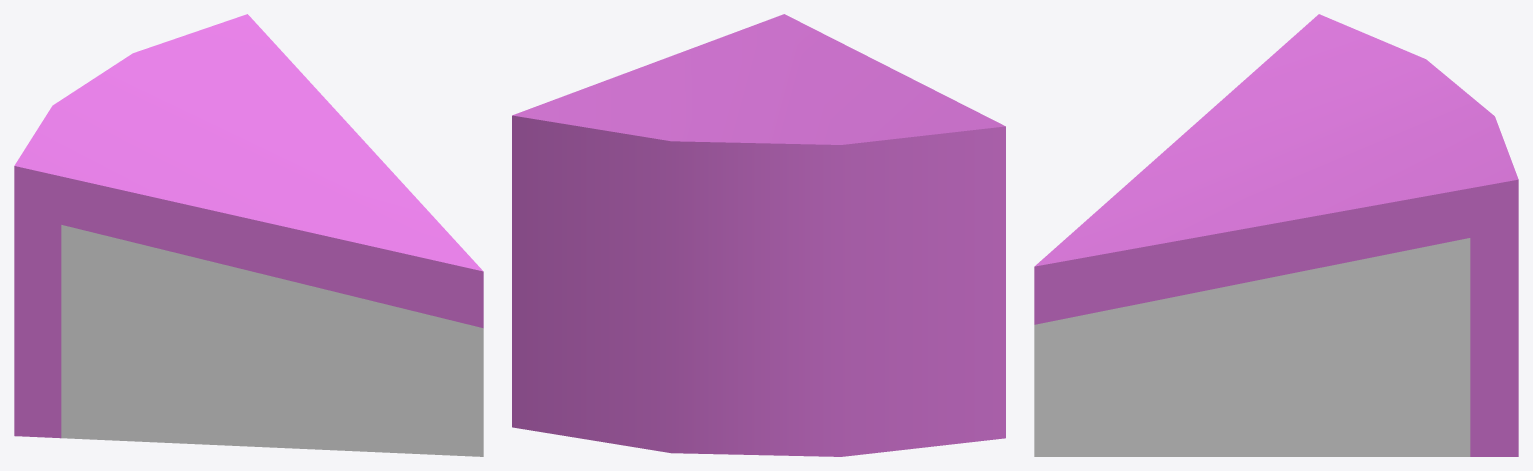
File: pickup_Cake_mesh.fbx
The picture shows the model from 3 angles, left to right: view 1: azimuth 30°, elevation 25°; view 2: azimuth 150°, elevation 25°; view 3: azimuth 270°, elevation 25°; orthographic projection. The views are drawn at different scales.
Visible parts, largest first — view 1: pickup_Cake; view 2: pickup_Cake; view 3: pickup_Cake.
Boxes of the visible parts, x1,y1,x2,y2 form: pickup_Cake: [14, 14, 483, 456]; pickup_Cake: [512, 14, 1005, 456]; pickup_Cake: [1034, 14, 1518, 456].
Bounding box in the file's own units: 4.68 × 3.66 × 5.78.
1 material, 1 textured.
